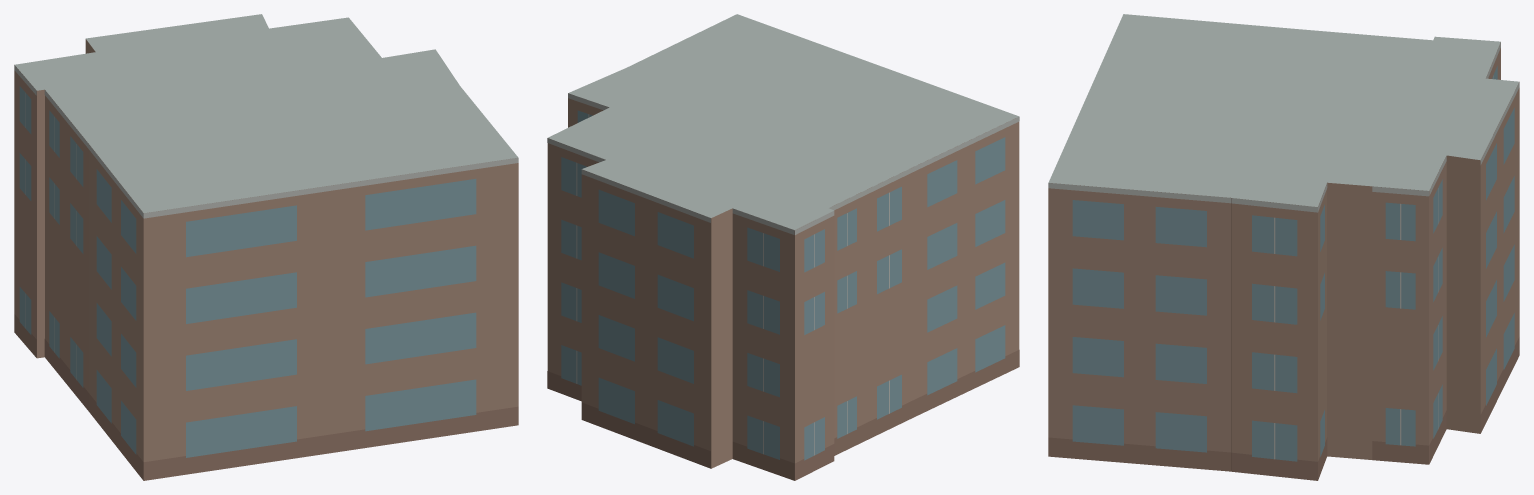
Rendered from survey-upis-32489268.glb.
3 renders of one model, left to right at view 1: azimuth 30°, elevation 25°; view 2: azimuth 150°, elevation 25°; view 3: azimuth 270°, elevation 25°, orthographic. The views are drawn at different scales.
Visible parts, largest first — view 1: survey-upis-32489268.tmp; view 2: survey-upis-32489268.tmp; view 3: survey-upis-32489268.tmp.
Part boxes in pixels (x1,y1,x2,y2): survey-upis-32489268.tmp: (14,14,518,480); survey-upis-32489268.tmp: (547,14,1019,480); survey-upis-32489268.tmp: (1048,14,1519,480).
Bounding box in the file's own units: 18.47 × 12.2 × 19.04.
